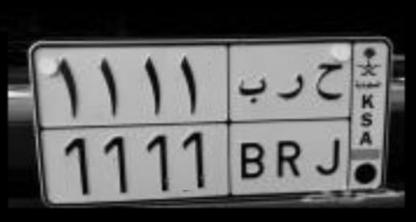license plate: (20, 28, 396, 210)
